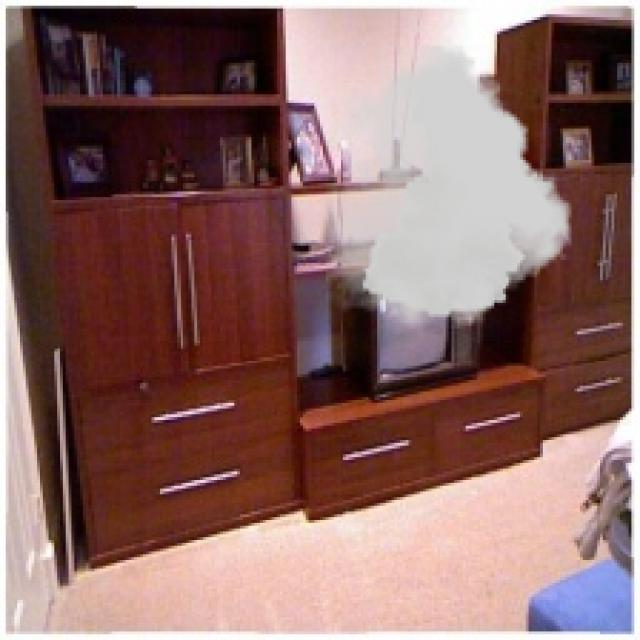smoke: (326, 45, 571, 328)
